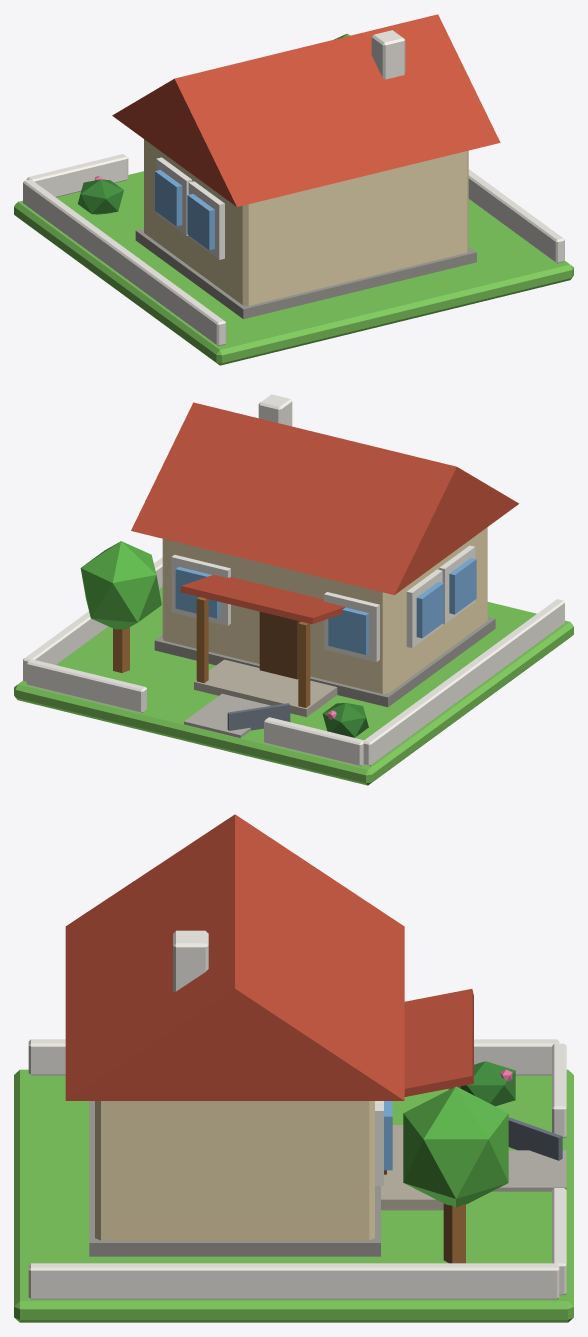
Rendered from kit-cidade-casa-simples.glb.
3 views of the same model, one above another, from view 1: azimuth 30°, elevation 25°; view 2: azimuth 150°, elevation 25°; view 3: azimuth 270°, elevation 25° (orthographic). The views are drawn at different scales.
Visible parts, largest first — view 1: corpo; view 2: corpo; view 3: corpo.
Part boxes in pixels (x1,y1,x2,y2): corpo: (14,14,573,365); corpo: (14,394,573,785); corpo: (14,814,573,1322).
Bounding box in the file's own units: 1.9 × 1.15 × 1.9.
